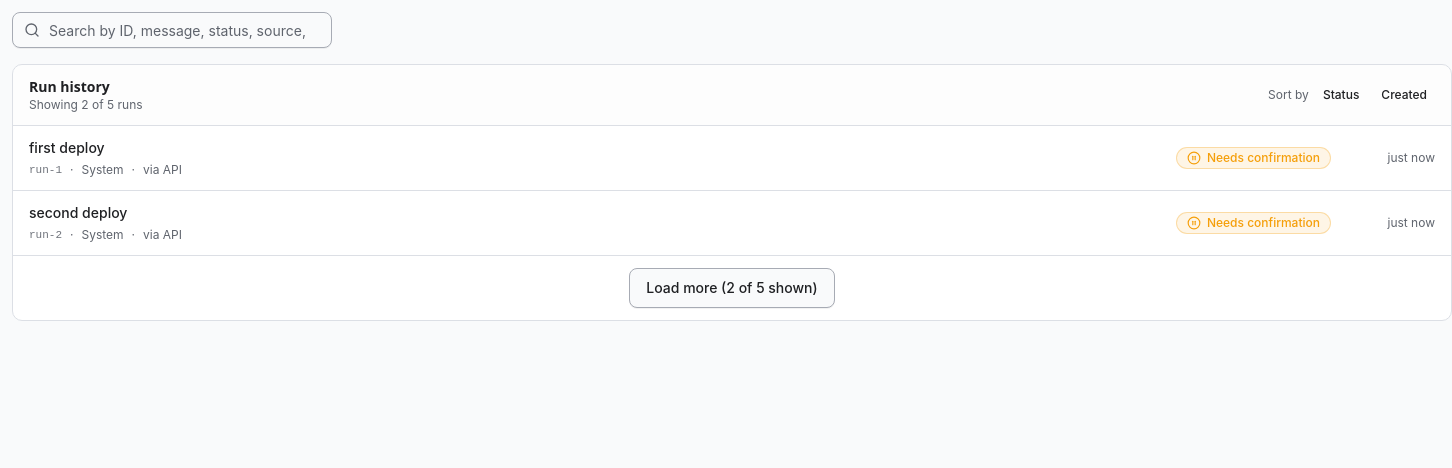
Test: run history shows the server total and loads more pages (issue #591)
This screenshot has width=1452, height=468.
Expected: the text "Showing 2 of 5 runs" is shown, x1=29 y1=97 x2=143 y2=113
What coordinates should you click on to do the following:
click the button "Load more (2 of 5 shown)"
I would click on:
 (732, 288)
Its box is x1=629 y1=268 x2=835 y2=308.
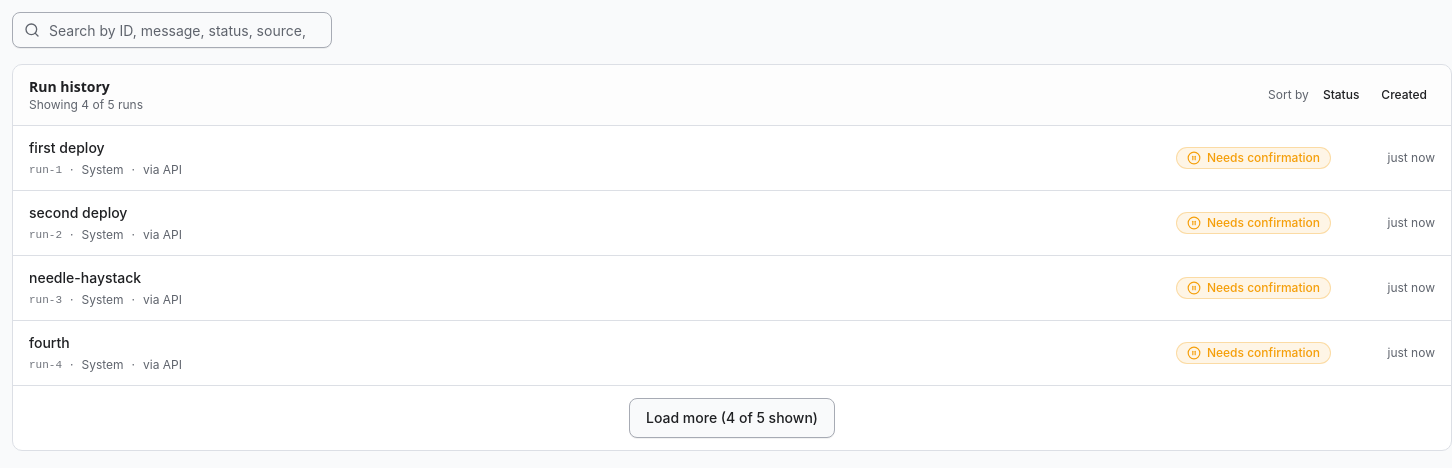
Expected: the text "Showing 4 of 5 runs" is shown, x1=29 y1=97 x2=143 y2=113
What coordinates should you click on to do the following:
click the button "Load more (4 of 5 shown)"
I would click on:
 (732, 418)
Its box is x1=629 y1=398 x2=835 y2=438.
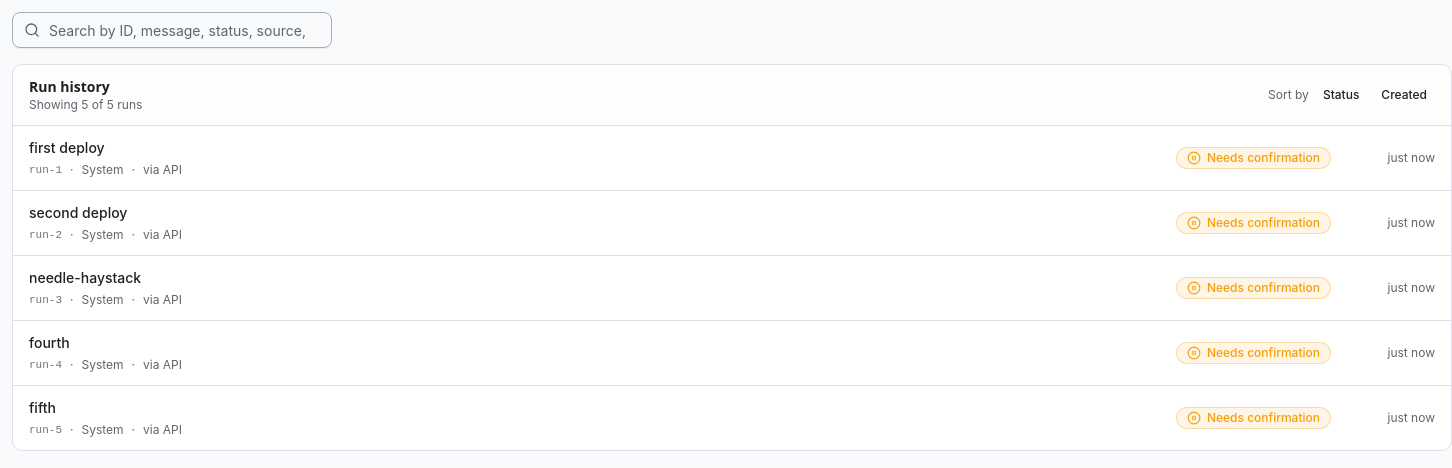
Expected: the text "Showing 5 of 5 runs" is shown, x1=29 y1=97 x2=142 y2=113
Expected: the button "Load more" is gone
